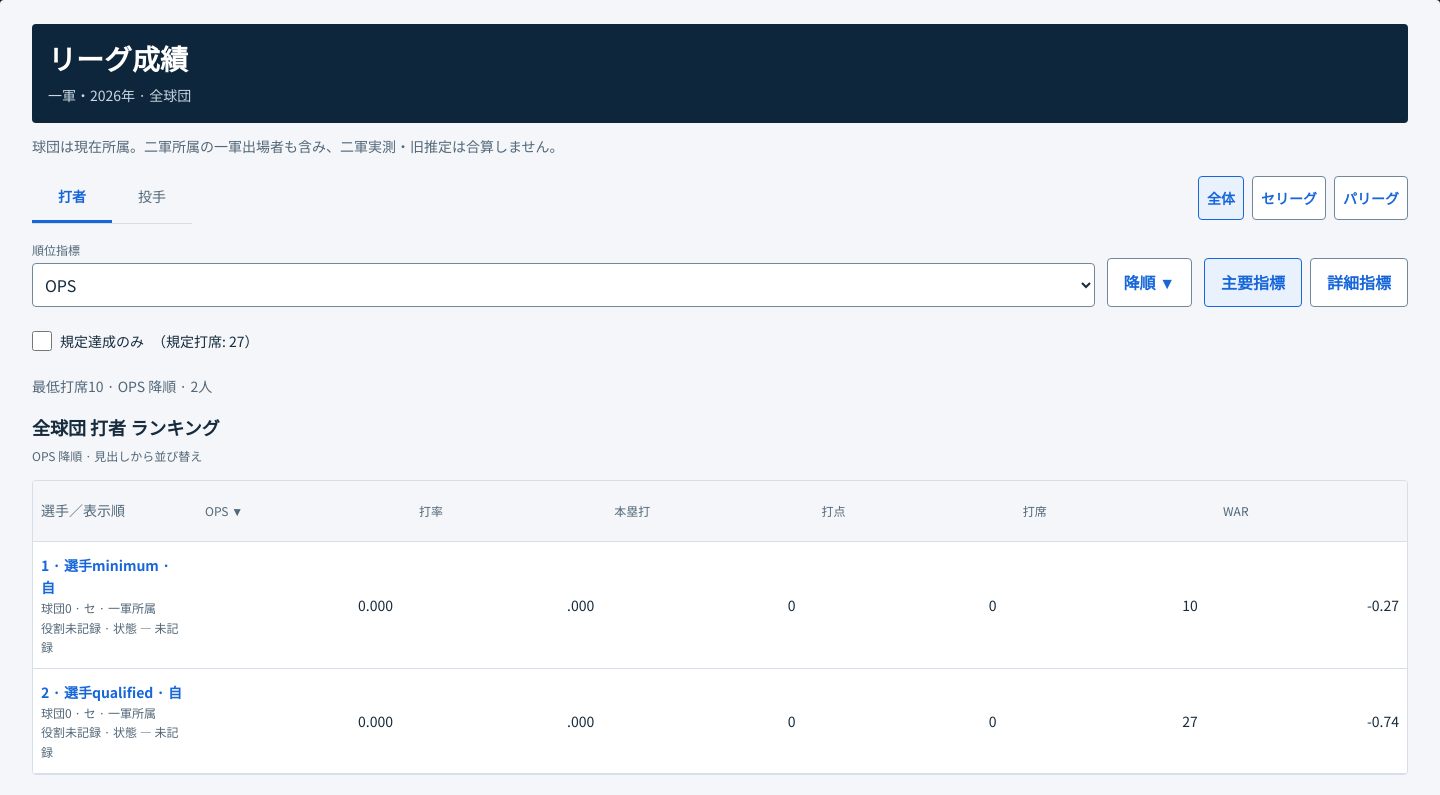
Test: league ranking record scope and operations › retains original minimum and progressive qualification conditions and makes count-sort exemption explicit
The image size is (1440, 795).
What coordinates should you click on to do the following:
click the checkbox labelled "規定達成のみ （規定打席: 27）"
I would click on:
 (42, 341)
Its box is 32,331 -> 52,351.
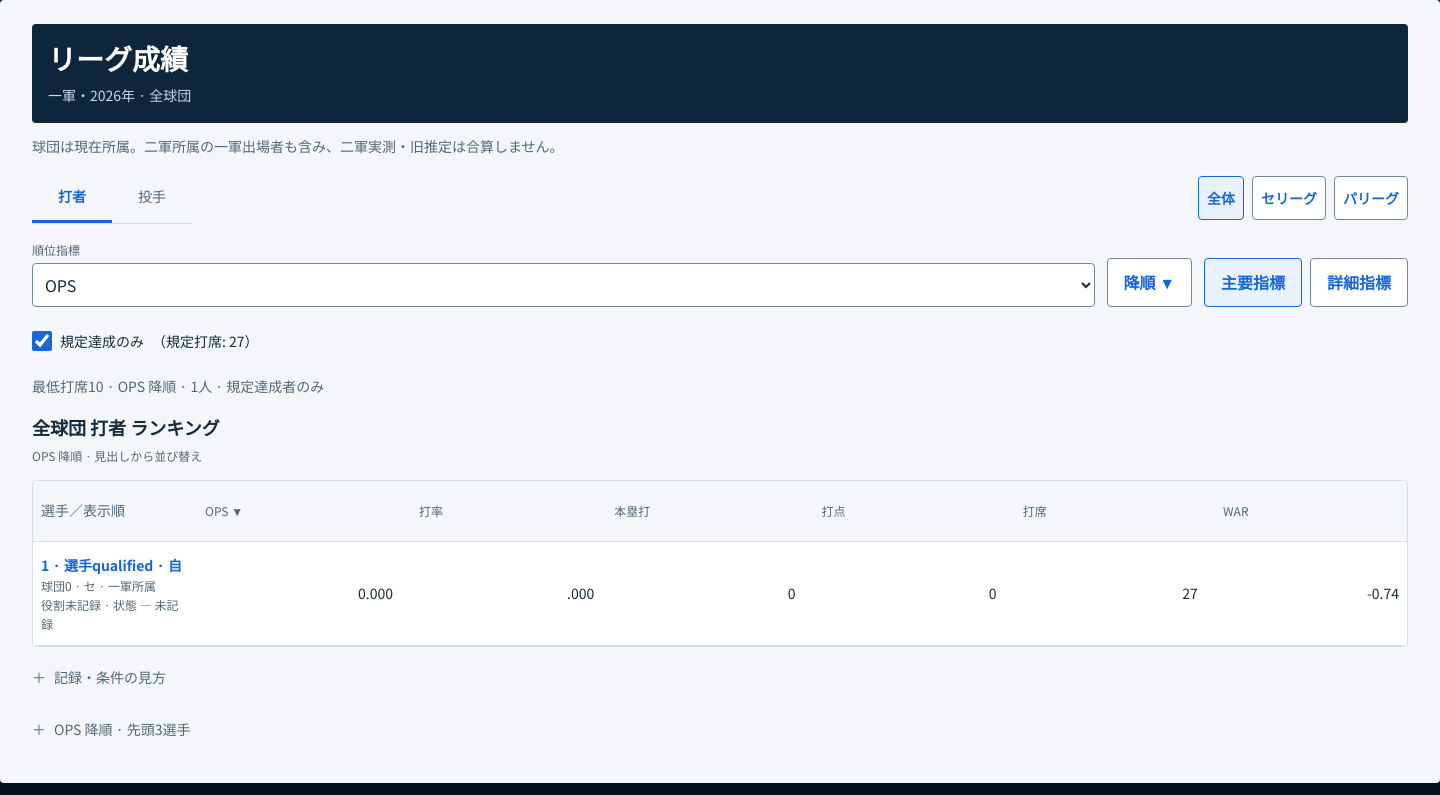
Check: the row that starts with "選手qualified" is shown, box 41,550 -> 185,638
What coordinates should you click on to do the following:
click the button "本塁打"
I would click on:
 (632, 510)
Its box is 610,488 -> 654,532.
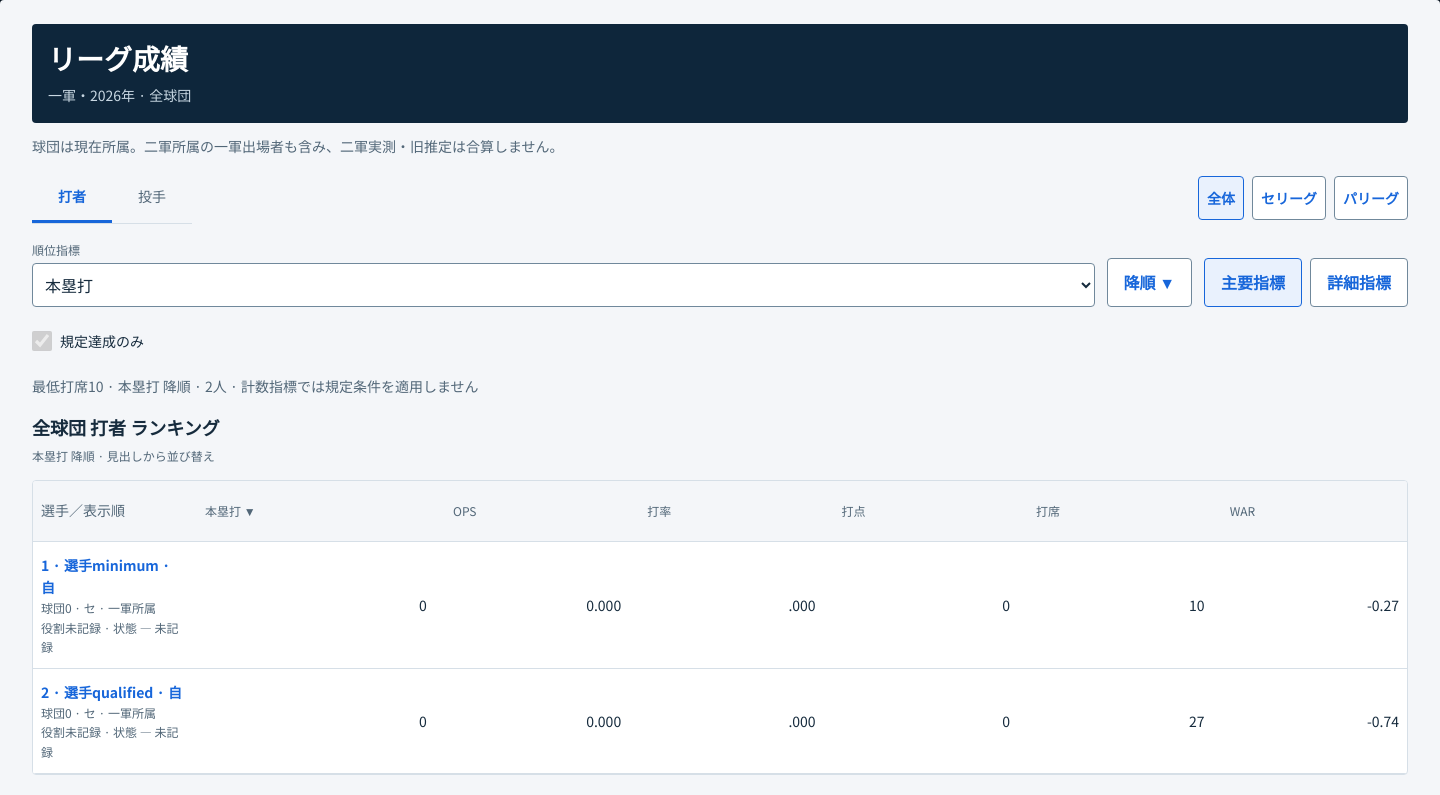
Check: the text "計数指標では規定条件を適用しません" is shown, box 227,376 -> 478,396
